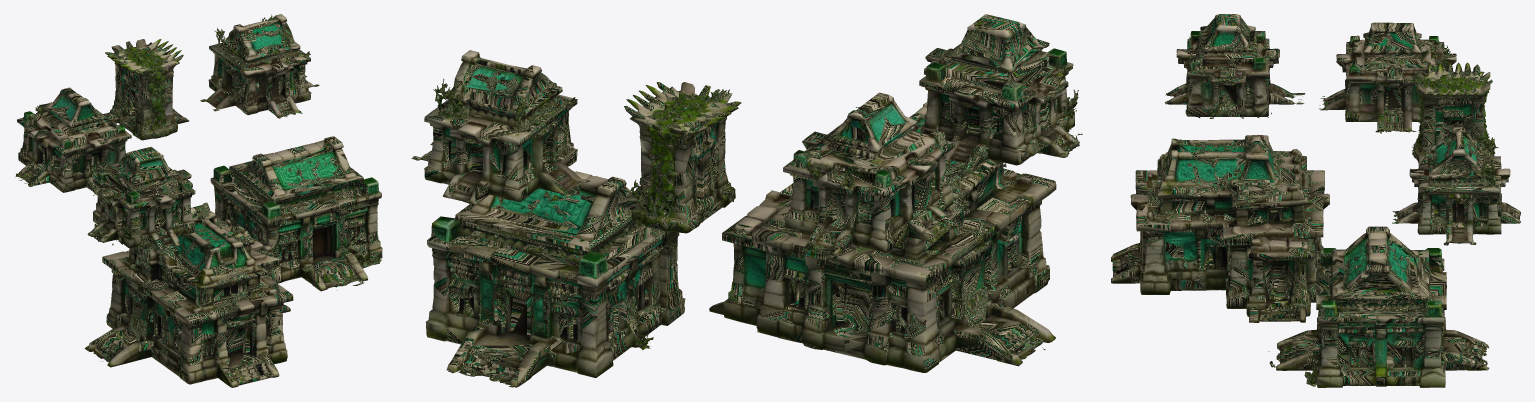
Rendered from Ancient_Stone_Temples.glb.
3 renders of one model, left to right at view 1: azimuth 30°, elevation 25°; view 2: azimuth 150°, elevation 25°; view 3: azimuth 270°, elevation 25°, orthographic. The views are drawn at different scales.
Visible parts, largest first — view 1: Ancient_Stone_Temples; view 2: Ancient_Stone_Temples; view 3: Ancient_Stone_Temples.
Part boxes in pixels (bbox=[...]): Ancient_Stone_Temples: bbox=[15, 14, 382, 387]; Ancient_Stone_Temples: bbox=[411, 14, 1082, 387]; Ancient_Stone_Temples: bbox=[1111, 14, 1520, 387].
Size of the model in its own units: 1.9 by 1.12 by 1.88.
1 material, 1 textured.
